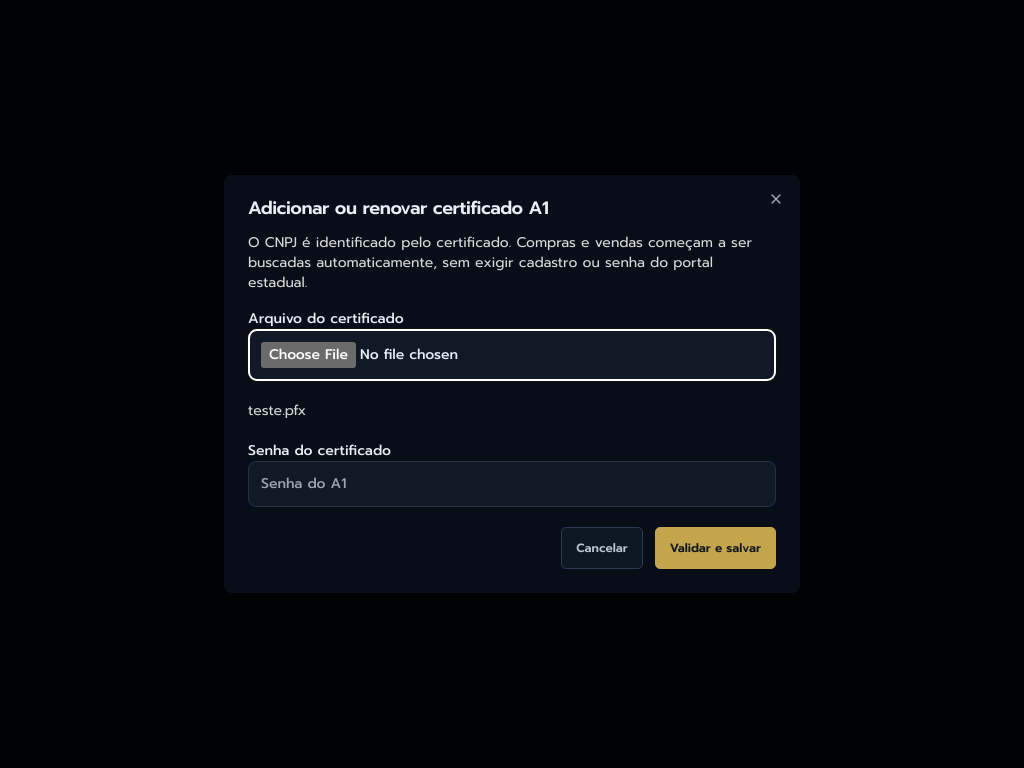
extrator: importação e conta › seleção não envia; senha é obrigatória
Earlier steps of the test are not shown.
Click the button "Validar e salvar". click: (715, 548)
box: top-left (655, 527), bottom-right (776, 569)
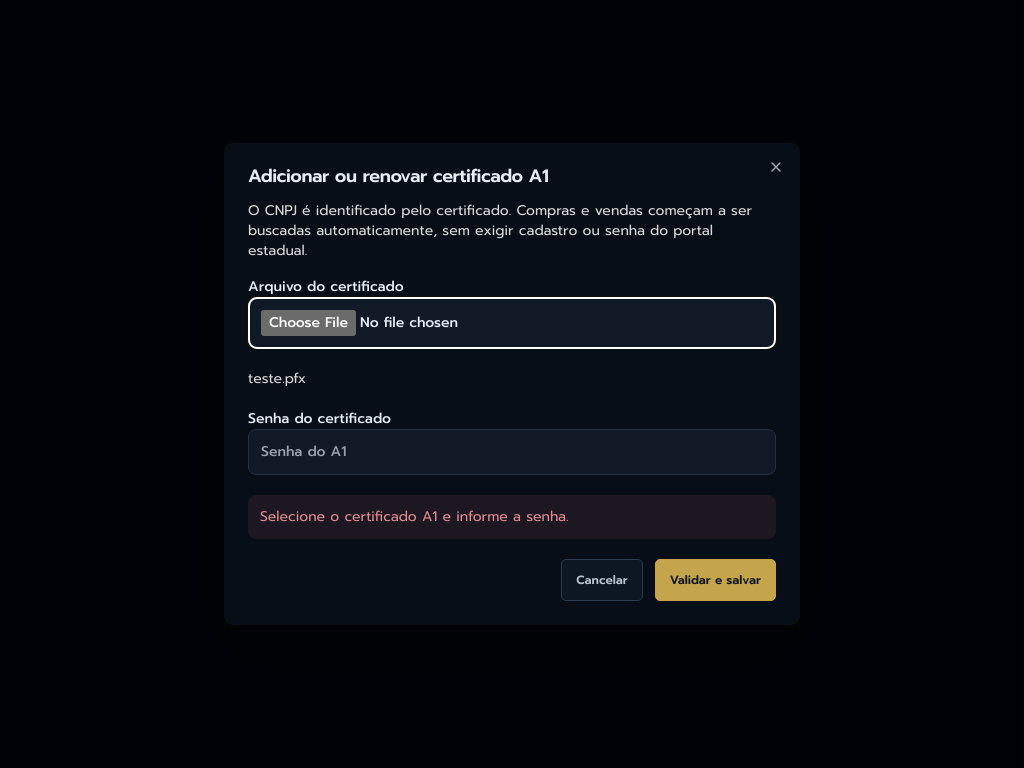
Expected: the message shows "senha", top-left (260, 506), bottom-right (569, 527)
